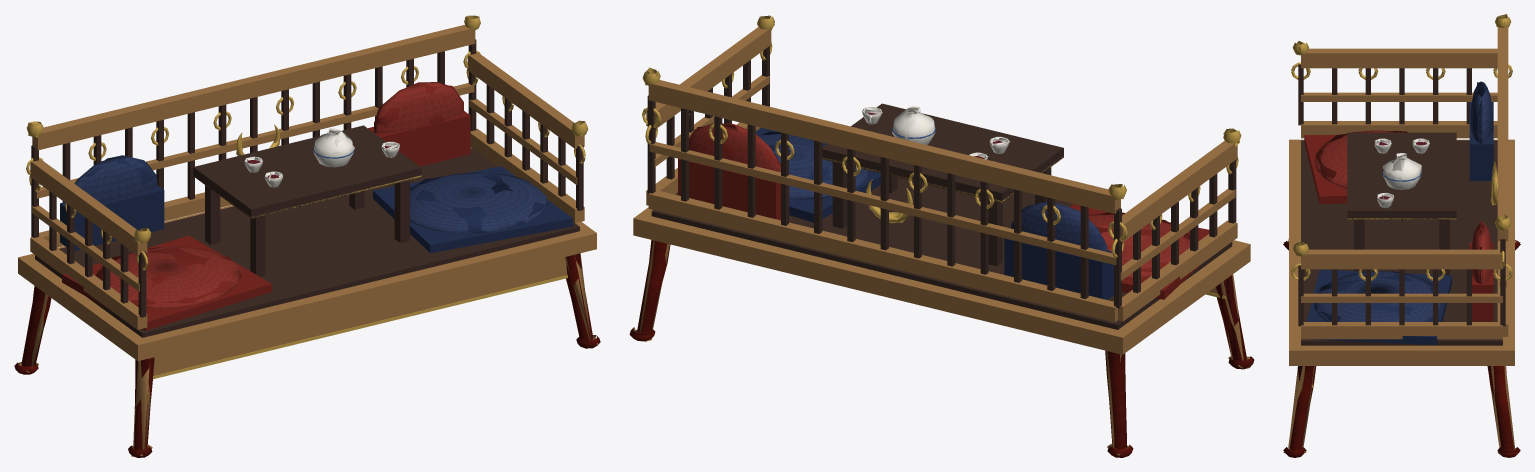
The model's file is prop_luohan_bed.gltf.
3 renders of one model, left to right at view 1: azimuth 30°, elevation 25°; view 2: azimuth 150°, elevation 25°; view 3: azimuth 270°, elevation 25°, orthographic. The views are drawn at different scales.
Visible parts, largest first — view 1: Far, Near; view 2: Far, Near; view 3: Far, Near.
Part boxes in pixels (x1,y1,x2,y2): Far: (18,15,598,456); Near: (14,17,600,457); Far: (633,15,1250,455); Near: (629,16,1254,457); Far: (1283,14,1520,456); Near: (1283,16,1520,457).
Bounding box in the file's own units: 2.15 × 1.09 × 1.
Materials: 10 (5 with a texture image).
